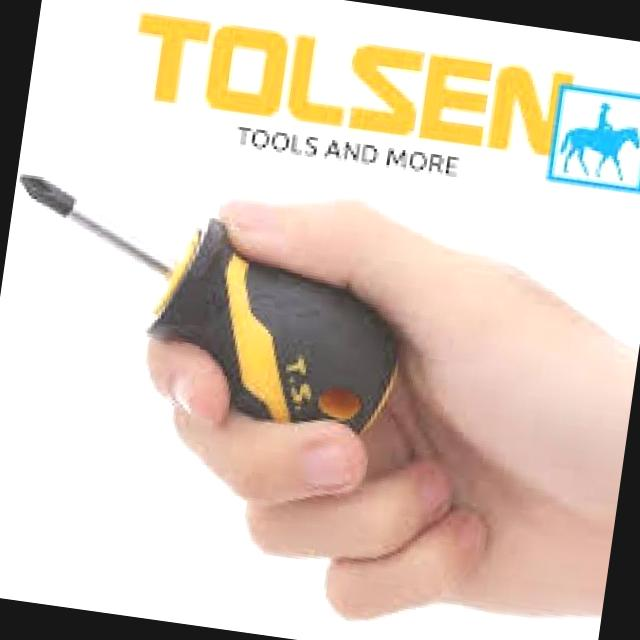screwdriver: (21, 176, 398, 433)
